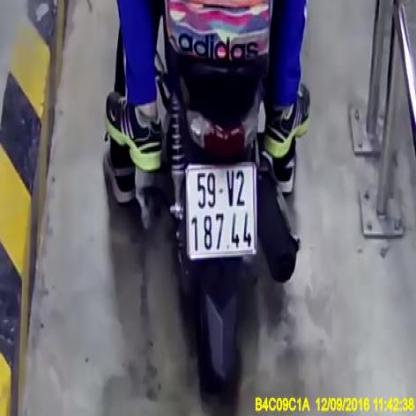Xemay: (186, 162, 257, 259)
